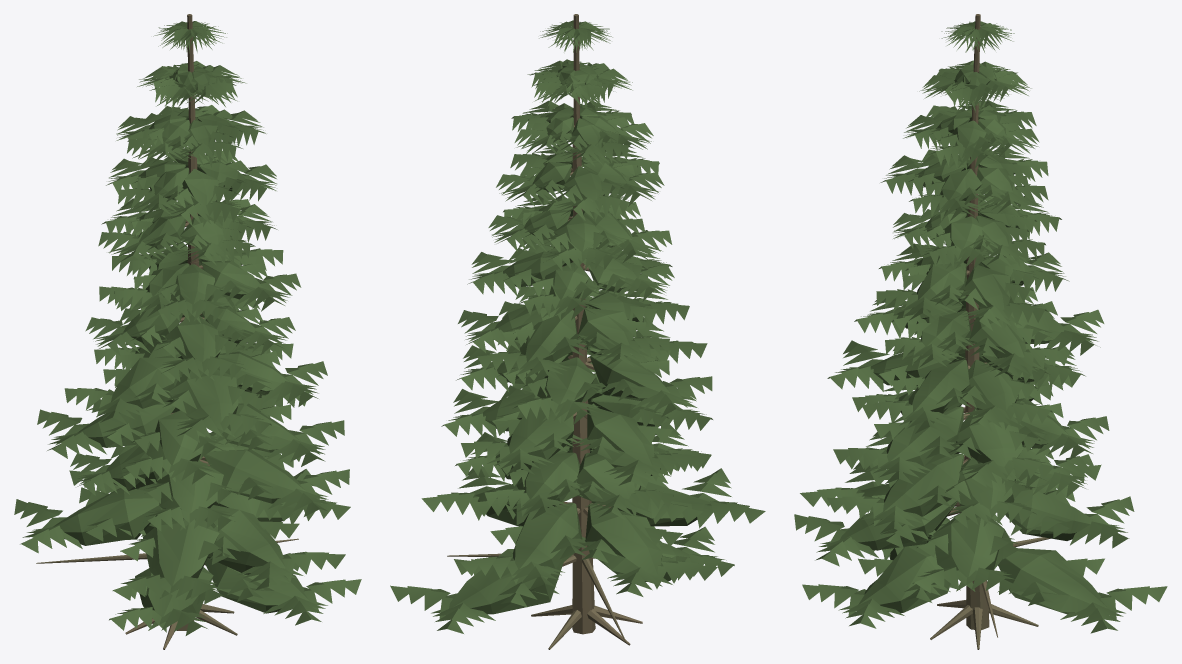
The model's file is taiga-young-spruce.glb.
3 renders of one model, left to right at view 1: azimuth 30°, elevation 25°; view 2: azimuth 150°, elevation 25°; view 3: azimuth 270°, elevation 25°, orthographic.
Visible parts, largest first — view 1: Молодая ель; view 2: Молодая ель; view 3: Молодая ель.
Boxes of the visible parts, x1=… form: Молодая ель: x1=14, y1=14, x2=361, y2=649; Молодая ель: x1=390, y1=14, x2=765, y2=649; Молодая ель: x1=794, y1=14, x2=1167, y2=649.
Size of the model in its own units: 4.52 by 9.01 by 4.96.
